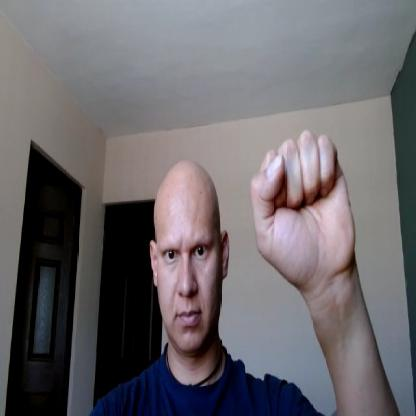S: (249, 128, 355, 290)
